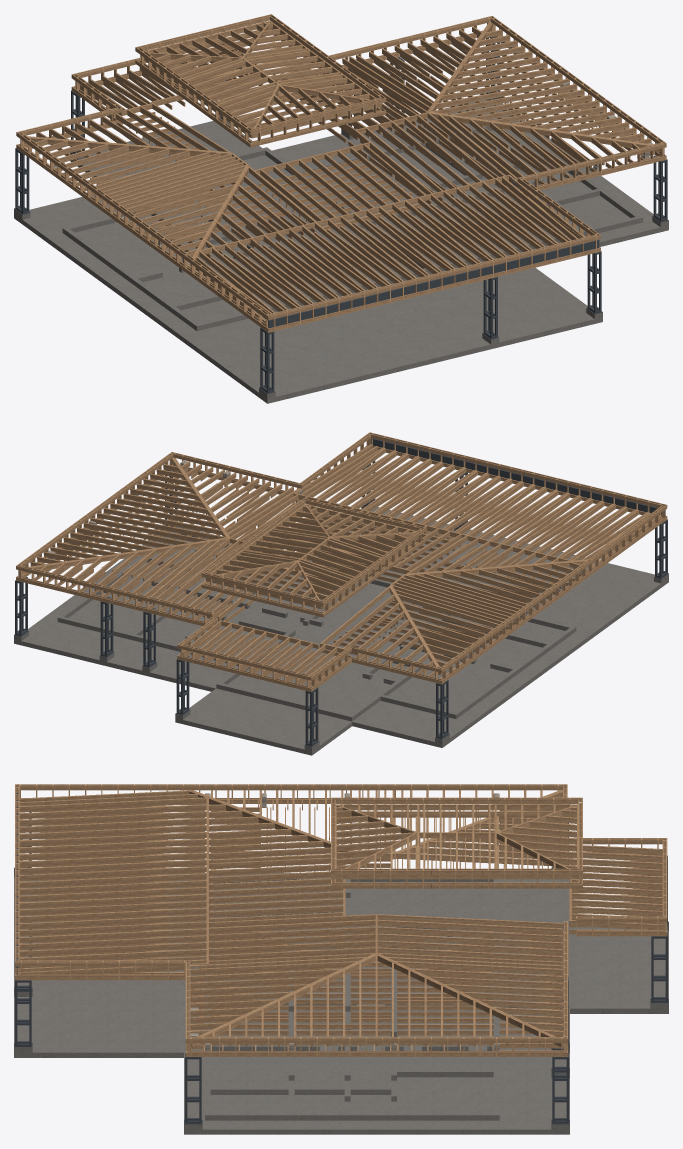
Rendered from frame_building.glb.
The picture shows the model from 3 angles, top to bottom: view 1: azimuth 30°, elevation 25°; view 2: azimuth 150°, elevation 25°; view 3: azimuth 270°, elevation 25°; orthographic projection. The views are drawn at different scales.
Visible parts, largest first — view 1: Material23 (×3), Material26, Material37, Material33; view 2: Material23 (×3), Material26, Material37, Material33; view 3: Material23 (×3), Material26, Material33, Material37.
Part boxes in pixels (x1=…): Material23 (×3): x1=16, y1=14, x2=666, y2=332; Material26: x1=14, y1=99, x2=668, y2=403; Material37: x1=14, y1=37, x2=668, y2=394; Material33: x1=20, y1=16, x2=664, y2=331; Material23 (×3): x1=16, y1=432, x2=667, y2=691; Material26: x1=14, y1=506, x2=668, y2=755; Material37: x1=14, y1=438, x2=668, y2=746; Material33: x1=18, y1=433, x2=665, y2=690; Material23 (×3): x1=15, y1=784, x2=667, y2=1056; Material26: x1=14, y1=872, x2=668, y2=1134; Material33: x1=15, y1=784, x2=667, y2=1056; Material37: x1=14, y1=793, x2=668, y2=1124.
Size of the model in its own units: 26.05 by 7.12 by 28.13.
Materials: 8 (5 with a texture image).
